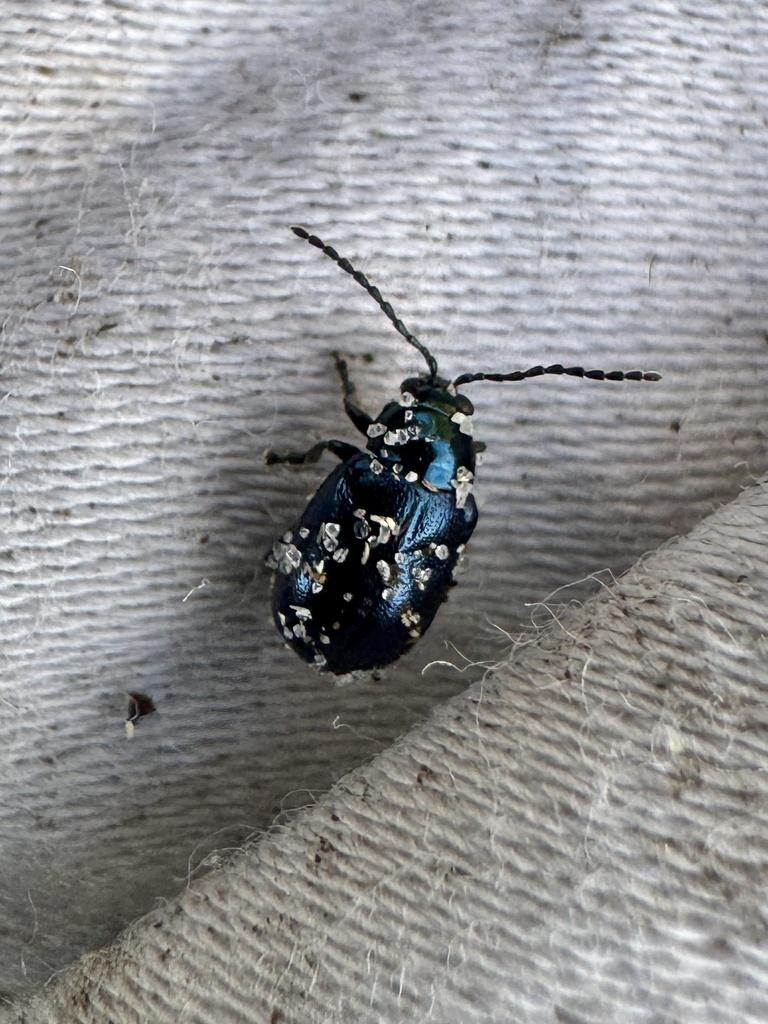flea_beetle: (181, 159, 700, 750)
